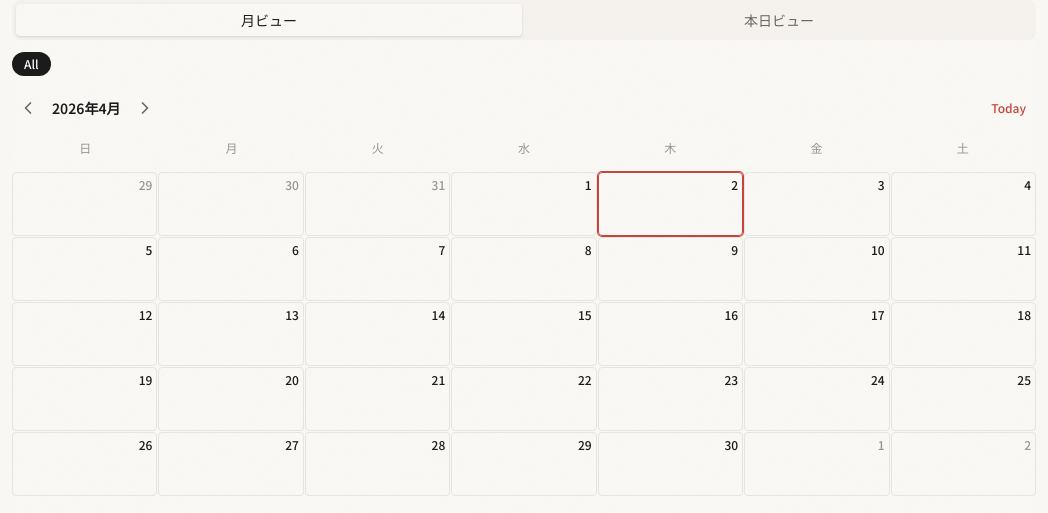
Scenario: CalendarPage - Today View Tab › should switch to today view when "本日ビュー" tab is clicked
Click the button with test id "tab-today-view" at [779, 20], box [526,4,1032,36]
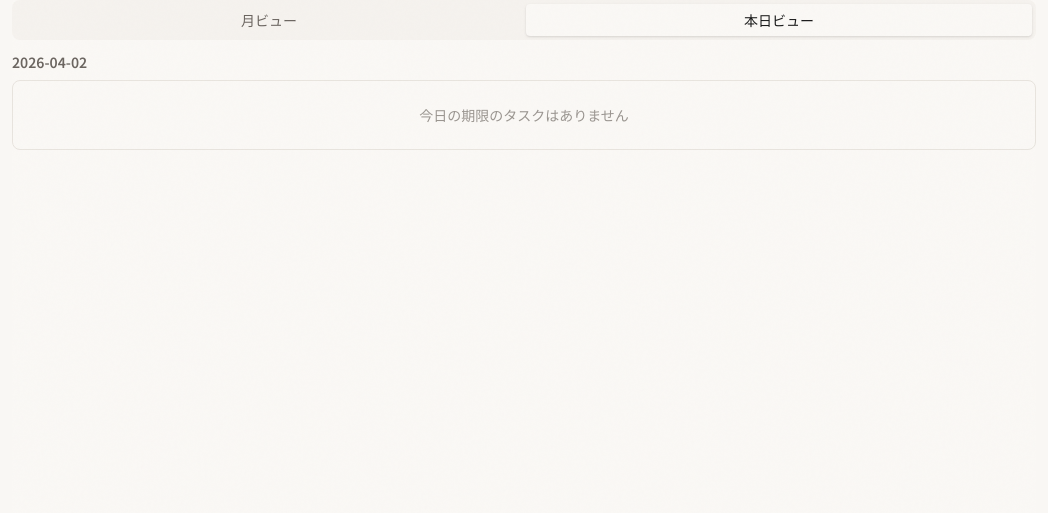
expect the element with test id "today-view" is shown: met, box [12,52,1036,150]
expect the element with test id "calendar-grid" is gone: met
